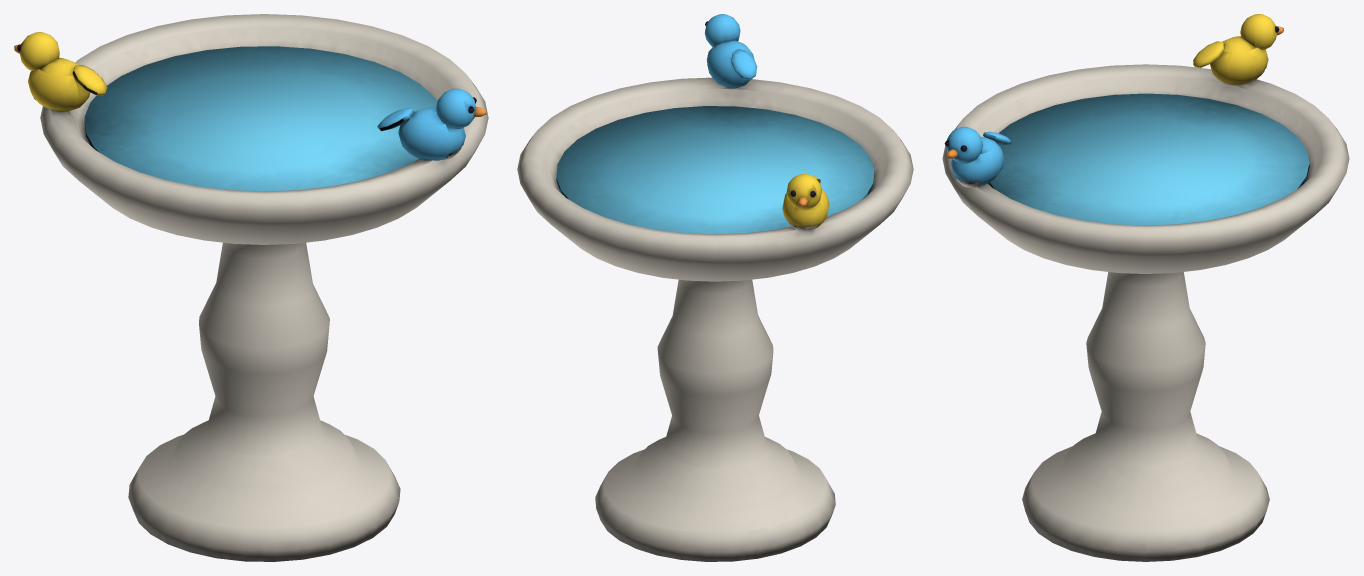
The model's file is birdbath.glb.
3 views of the same model, side by side, from view 1: azimuth 30°, elevation 25°; view 2: azimuth 150°, elevation 25°; view 3: azimuth 270°, elevation 25° (orthographic). The views are drawn at different scales.
Visible parts, largest first — view 1: birdbath; view 2: birdbath; view 3: birdbath.
Part boxes in pixels (x1,y1,x2,y2): birdbath: [14, 14, 488, 561]; birdbath: [517, 14, 913, 561]; birdbath: [942, 14, 1349, 561].
Bounding box in the file's own units: 0.92 × 1.06 × 0.92.
7 materials, 7 textured.
